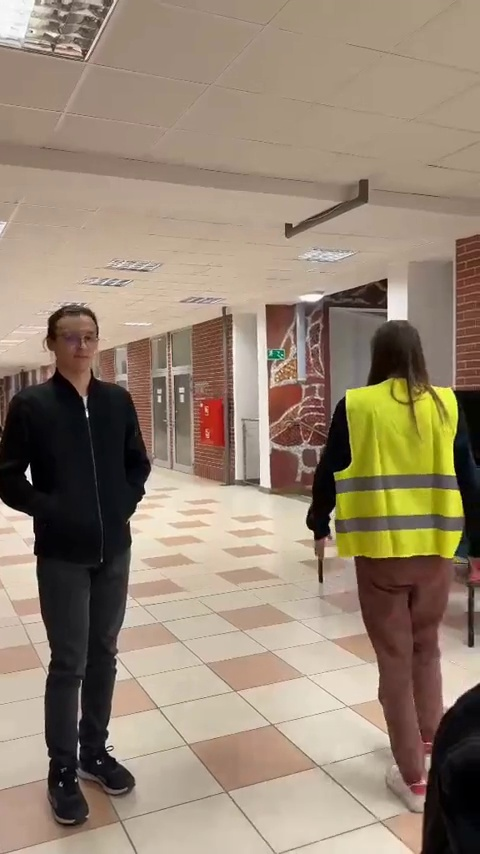no vest: (3, 301, 165, 830)
vest: (302, 325, 475, 822)
